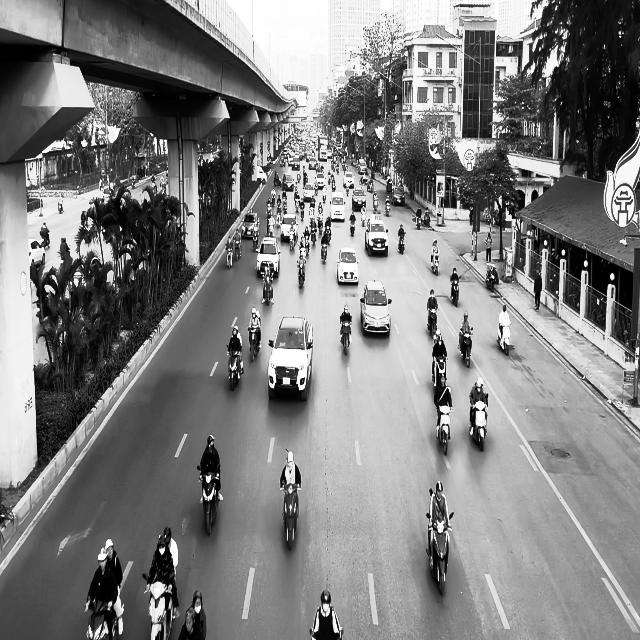bus: (319, 135, 328, 160)
car: (268, 315, 314, 401), (360, 280, 392, 336), (256, 236, 280, 277), (336, 247, 361, 284), (365, 219, 389, 257), (280, 214, 298, 242), (241, 212, 260, 238), (29, 238, 46, 267), (330, 191, 346, 221), (352, 187, 366, 211), (392, 186, 405, 206), (303, 182, 315, 201), (315, 170, 326, 190), (282, 173, 294, 190), (343, 172, 355, 188), (257, 165, 267, 184)
motorbike: (426, 511, 454, 595), (86, 585, 124, 639), (143, 573, 174, 639), (197, 466, 220, 536), (280, 482, 301, 550), (469, 392, 489, 452), (436, 404, 453, 455), (227, 344, 243, 390), (458, 327, 474, 368), (433, 355, 448, 388), (497, 321, 511, 356), (340, 316, 352, 356), (248, 327, 261, 362), (262, 270, 274, 305), (297, 252, 307, 288), (486, 263, 498, 291), (451, 275, 461, 306), (428, 308, 438, 336), (321, 236, 329, 264), (431, 253, 440, 275), (226, 244, 234, 268), (398, 233, 406, 254), (350, 214, 356, 236)
